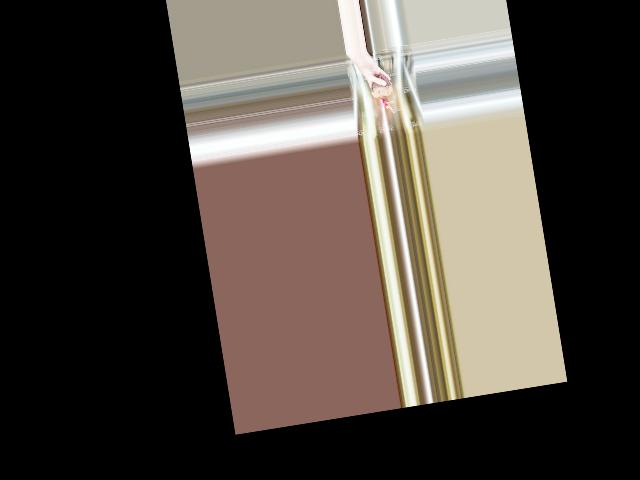beet: (369, 72, 396, 115)
